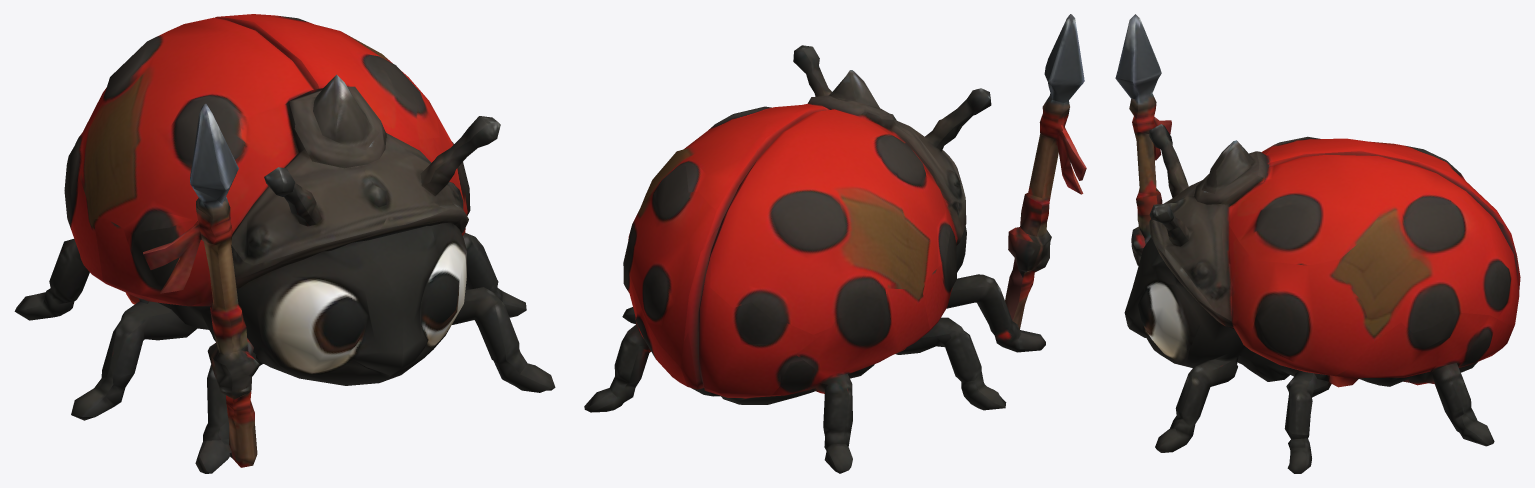
Rendered from Ladybug.glb.
3 renders of one model, left to right at view 1: azimuth 30°, elevation 25°; view 2: azimuth 150°, elevation 25°; view 3: azimuth 270°, elevation 25°, orthographic. The views are drawn at different scales.
Bounding box in the file's own units: 1.98 × 1.59 × 1.93.
1 material, 1 textured.
